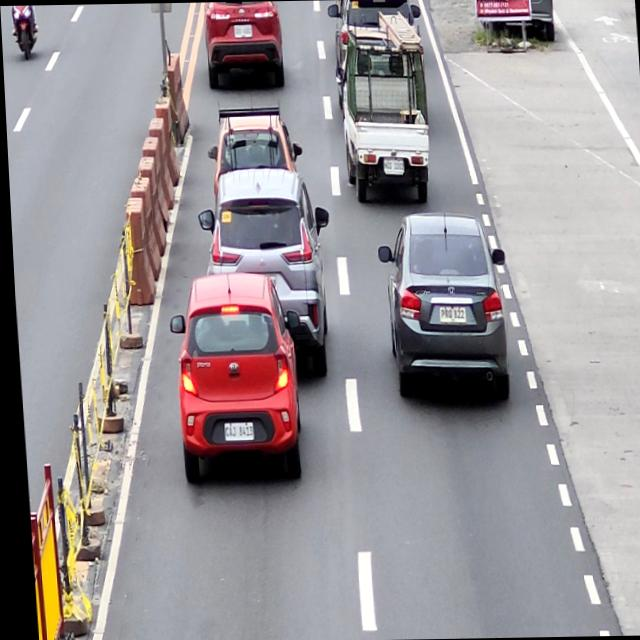Car: (192, 166, 334, 387), (162, 272, 299, 488), (376, 210, 511, 407), (203, 110, 303, 212), (203, 1, 284, 90), (330, 0, 425, 65)
License-Plate: (218, 422, 249, 440), (435, 306, 463, 322), (380, 158, 403, 174), (232, 24, 252, 38)
Truck: (332, 32, 432, 206)
